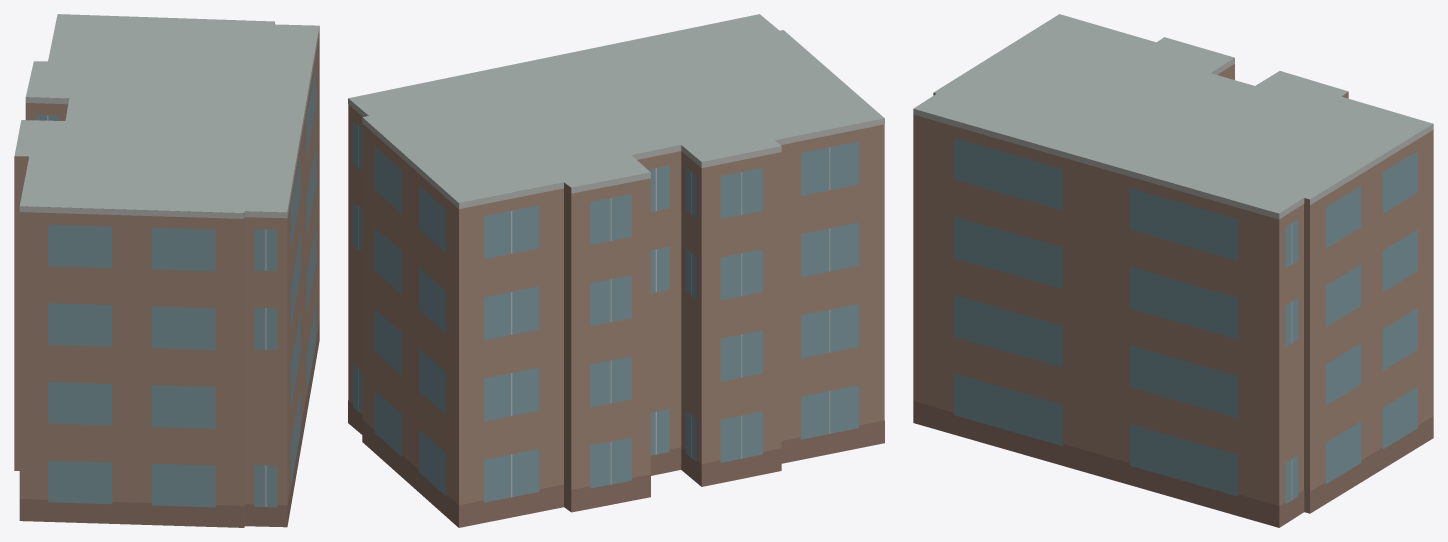
File: survey-upis-32912767.glb
3 views of the same model, side by side, from view 1: azimuth 30°, elevation 25°; view 2: azimuth 150°, elevation 25°; view 3: azimuth 270°, elevation 25° (orthographic). The views are drawn at different scales.
Parts seen in each view (by area): view 1: survey-upis-32912767.tmp; view 2: survey-upis-32912767.tmp; view 3: survey-upis-32912767.tmp.
Part boxes in pixels (x1,y1,x2,y2): survey-upis-32912767.tmp: (14,14,319,527); survey-upis-32912767.tmp: (348,14,884,527); survey-upis-32912767.tmp: (913,14,1433,527).
Bounding box in the file's own units: 17.93 × 13.15 × 19.75.
